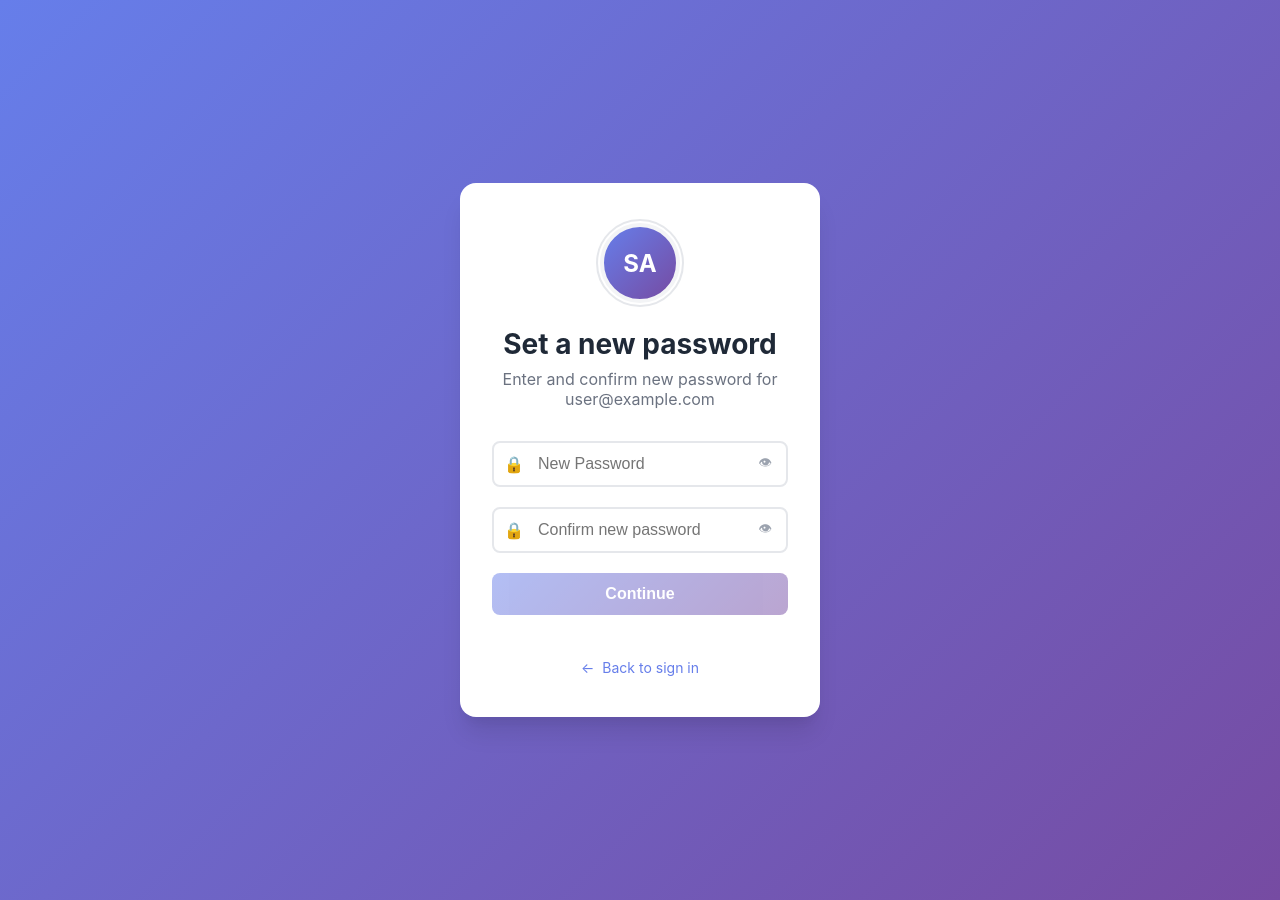
Test case: ResetPassword Component › handles successful password reset with redirect to login
The image size is (1280, 900).
Type "ValidPass123!" into the password field with placeholder "New Password" at (640, 464), box [492,441,788,487]
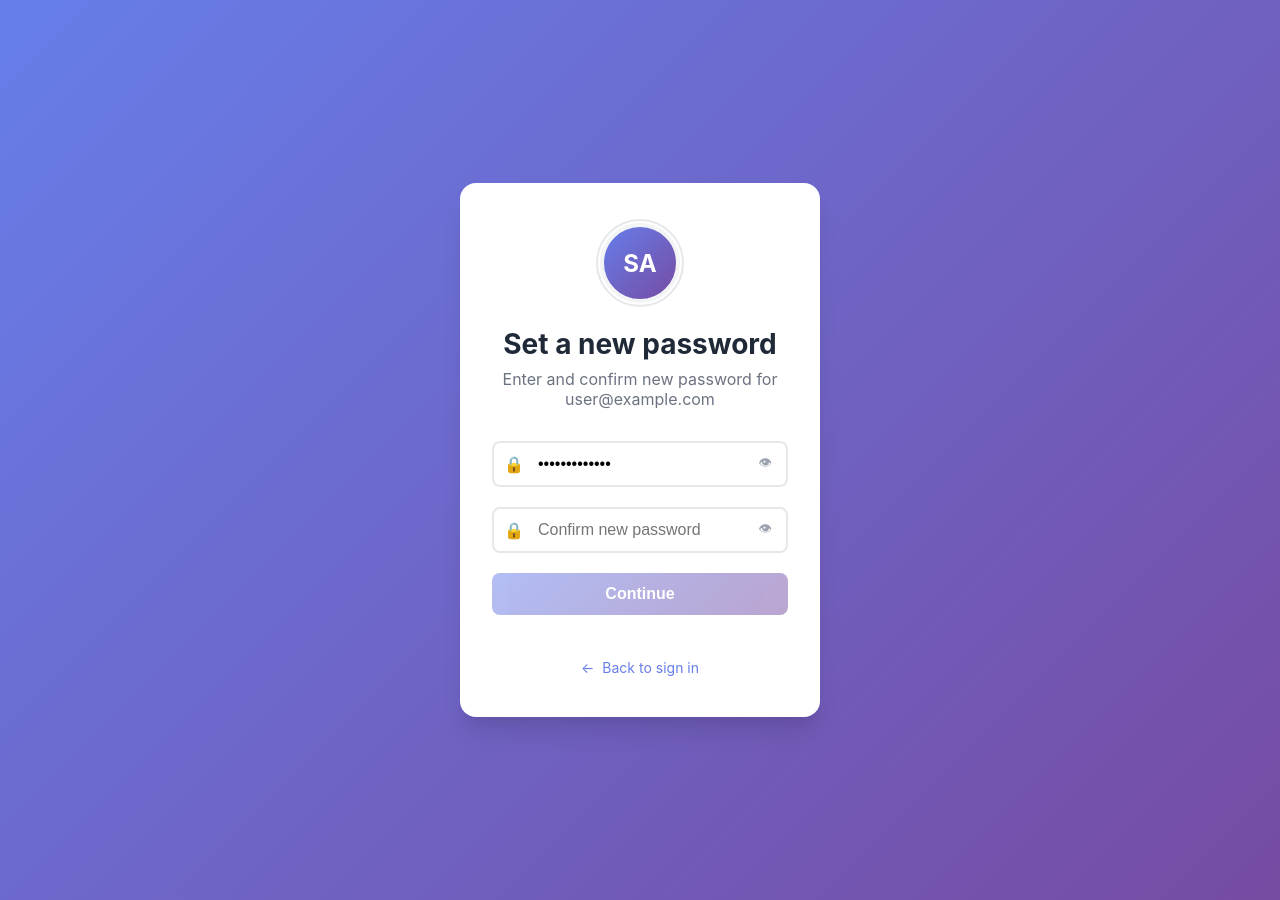
Type "ValidPass123!" into the password field with placeholder "Confirm new password" at (640, 530), box [492,507,788,553]
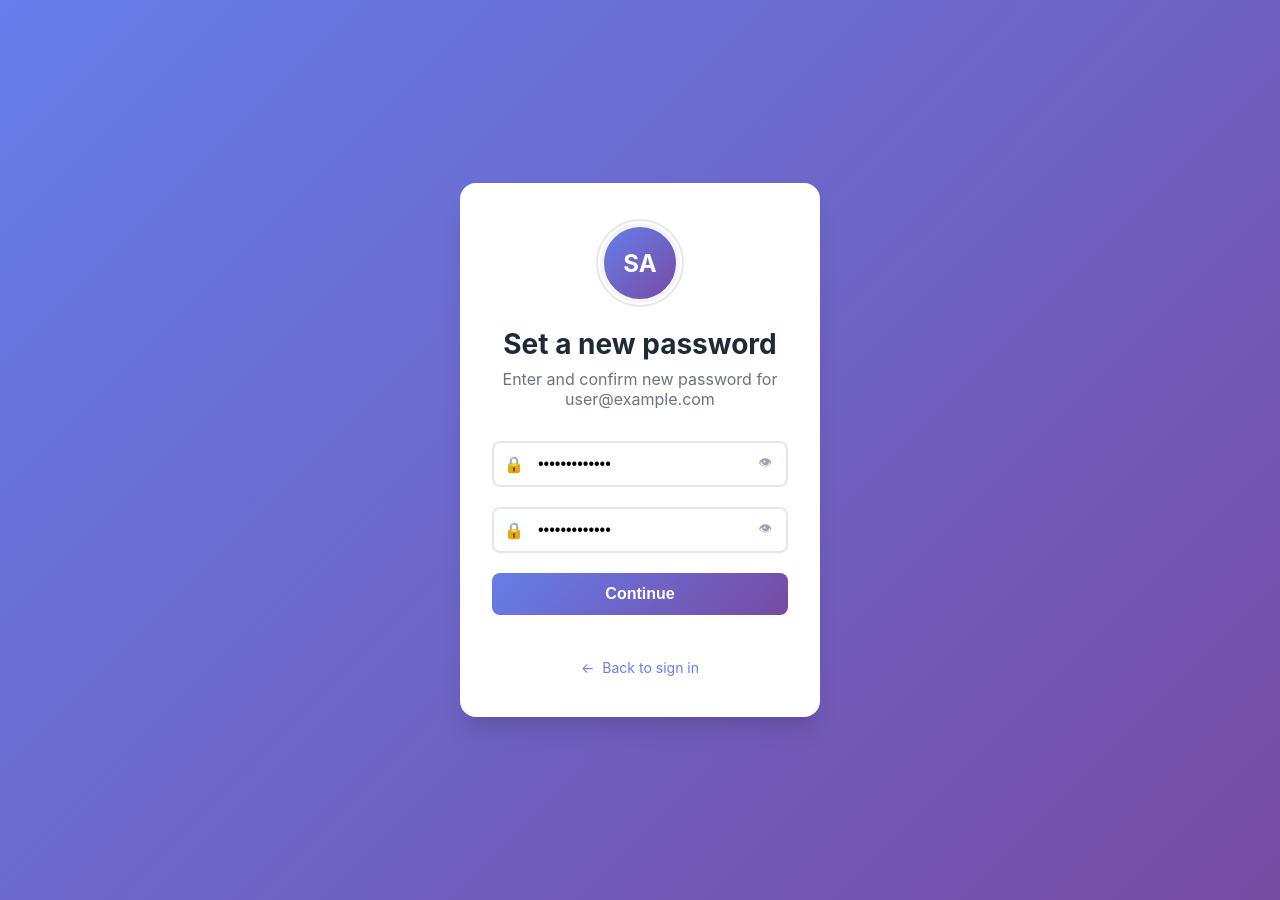
Click the button "Continue" at (640, 594), box [492,573,788,615]
Wait 3000 ms
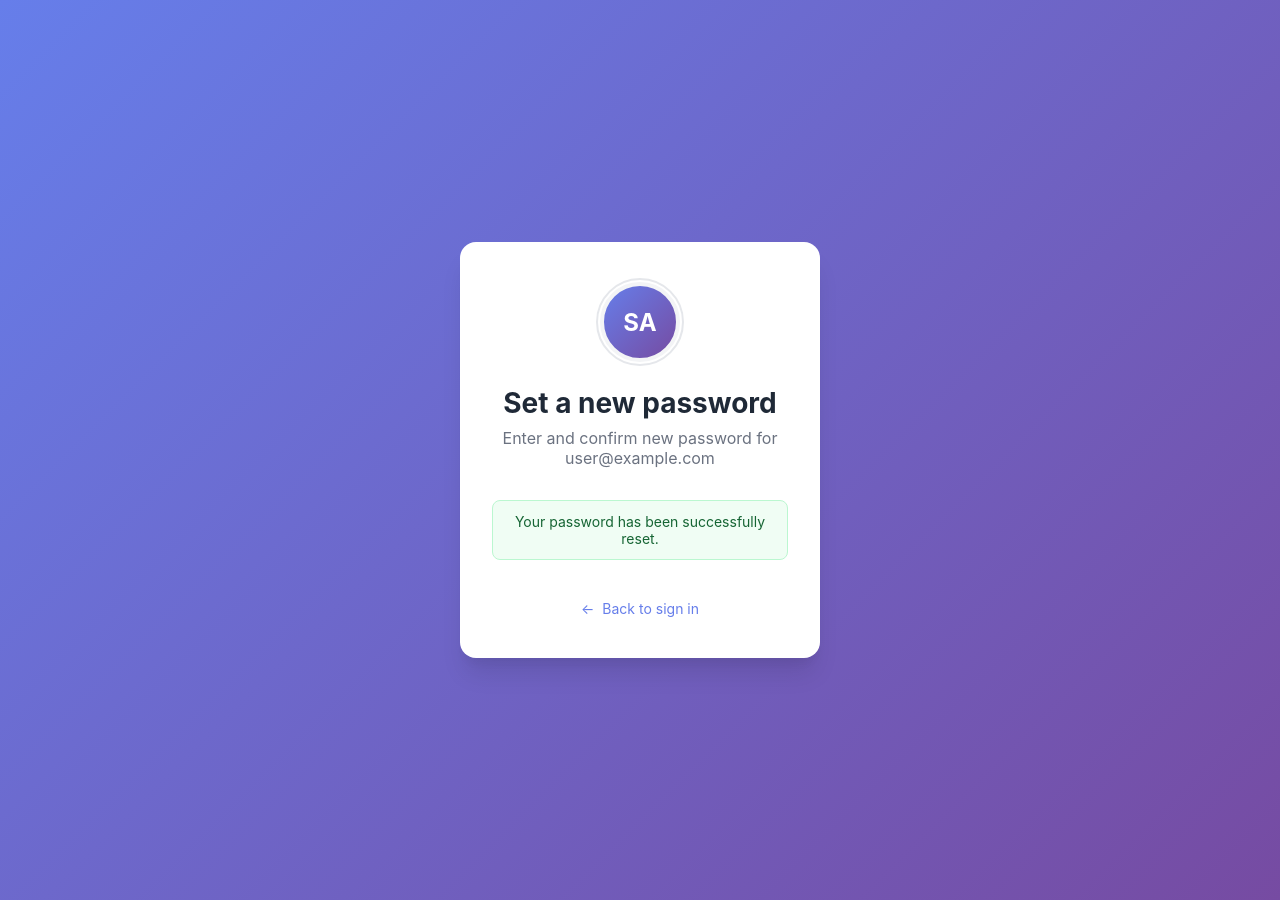
Check: the text "Your password has been successfully reset." is shown, box [492,500,788,560]
